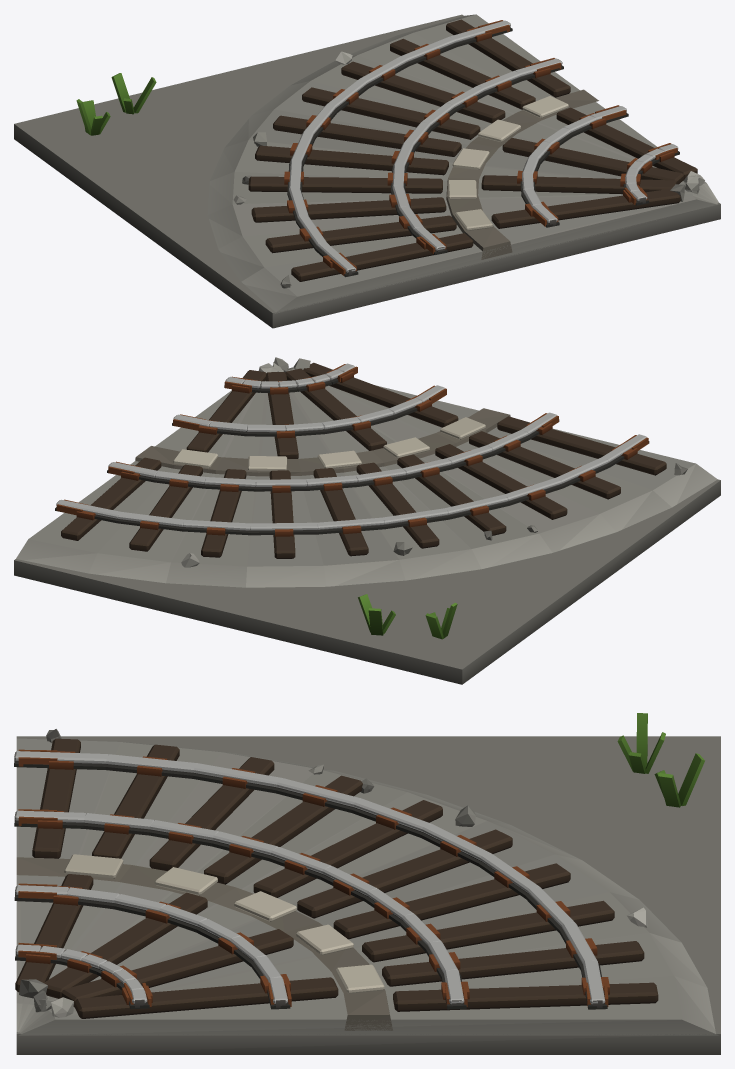
File: track-double-curve-tile.glb
The picture shows the model from 3 angles, top to bottom: view 1: azimuth 30°, elevation 25°; view 2: azimuth 150°, elevation 25°; view 3: azimuth 270°, elevation 25°; orthographic projection. The views are drawn at different scales.
Parts seen in each view (by area): view 1: track_double_curve_tile; view 2: track_double_curve_tile; view 3: track_double_curve_tile.
Part boxes in pixels (box(x1,y1,x2,y2)): track_double_curve_tile: box(14, 14, 720, 328); track_double_curve_tile: box(14, 357, 720, 684); track_double_curve_tile: box(14, 713, 720, 1054).
Size of the model in its own units: 4.01 by 0.4308 by 4.01.
